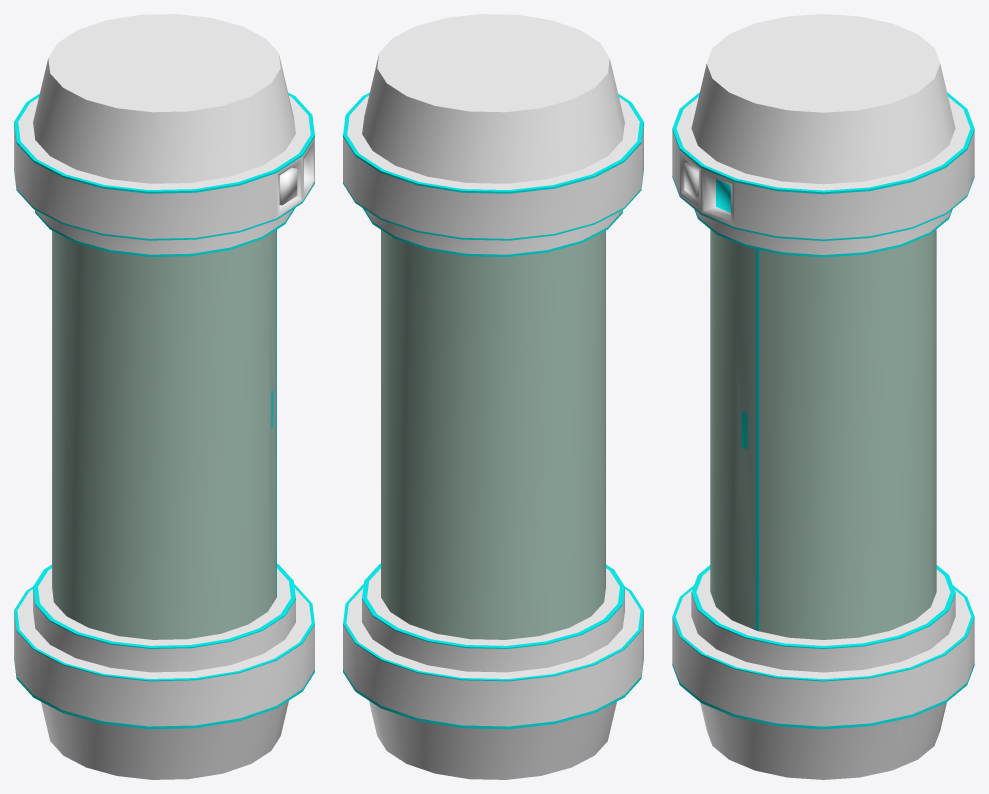
Rendered from showerRound.glb.
The picture shows the model from 3 angles, left to right: view 1: azimuth 30°, elevation 25°; view 2: azimuth 150°, elevation 25°; view 3: azimuth 270°, elevation 25°; orthographic projection.
Visible parts, largest first — view 1: showerRound; view 2: showerRound; view 3: showerRound.
Boxes of the visible parts, box(x1,y1,x2,y2) form: showerRound: box(14, 14, 314, 779); showerRound: box(343, 14, 643, 779); showerRound: box(672, 14, 974, 779).
Size of the model in its own units: 0.7762 by 1.89 by 0.7762.
